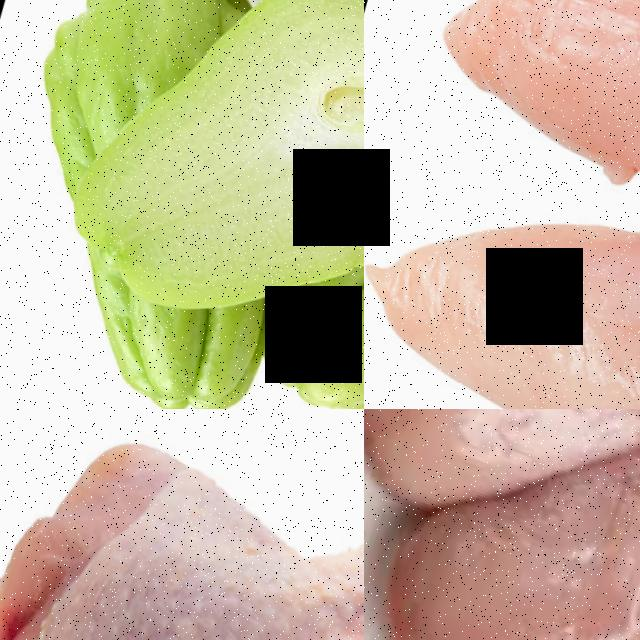chayote: (46, 0, 364, 409)
chicken breast: (364, 122, 640, 409), (398, 0, 640, 308), (364, 409, 640, 640)
chicken thigh: (0, 409, 364, 640)
